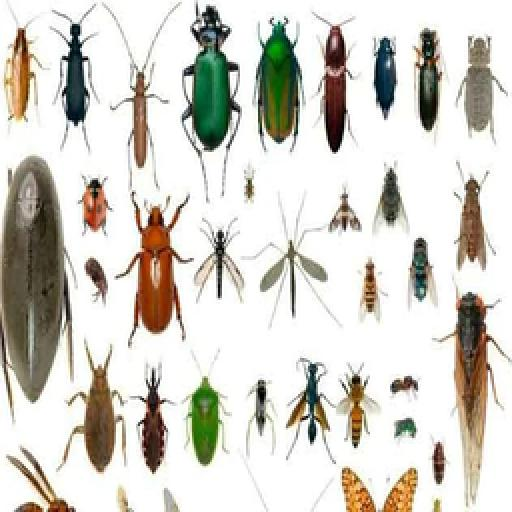insects: (0, 152, 72, 430), (430, 288, 508, 508), (176, 0, 244, 200), (110, 190, 196, 348), (108, 8, 168, 192), (64, 338, 132, 484), (46, 2, 110, 154), (254, 208, 334, 326), (252, 14, 306, 164), (276, 356, 344, 466), (314, 4, 360, 158), (454, 26, 508, 146), (188, 208, 250, 308), (180, 348, 230, 470), (450, 162, 498, 286), (128, 356, 176, 480), (2, 2, 44, 134), (2, 446, 78, 512), (408, 24, 450, 140), (332, 358, 380, 454), (336, 460, 424, 512), (234, 364, 278, 464), (368, 160, 414, 236), (404, 234, 440, 322), (76, 172, 116, 242), (370, 30, 400, 122), (326, 184, 366, 240), (356, 256, 386, 328), (80, 256, 114, 314), (108, 480, 142, 512), (388, 372, 420, 400), (390, 414, 418, 444), (162, 484, 184, 512)
